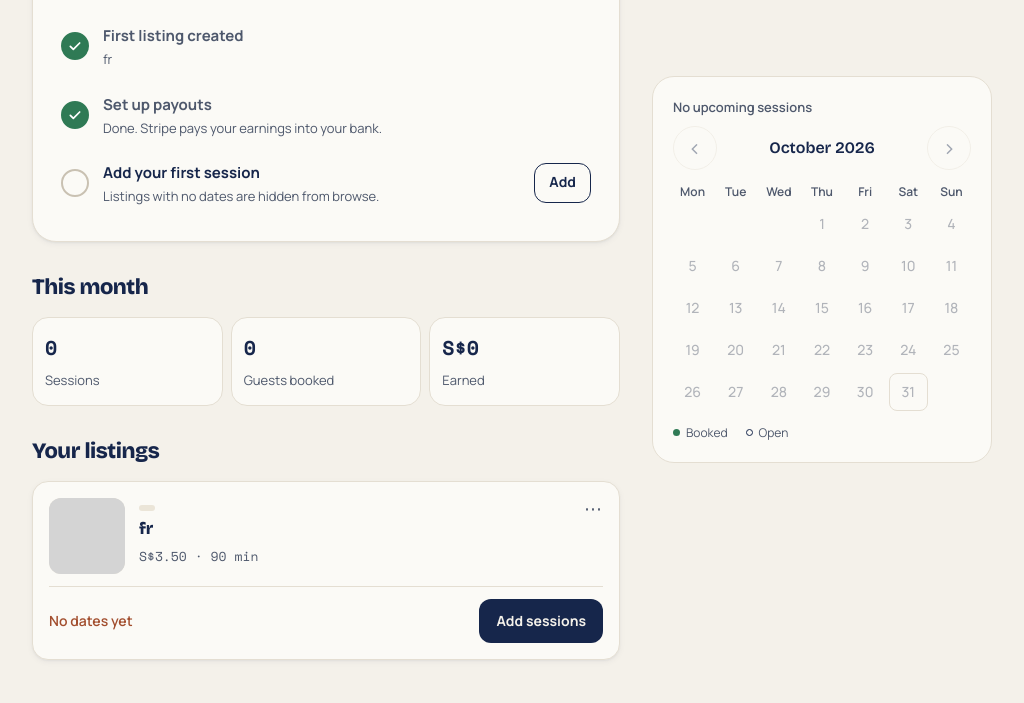
Test: Profile own tabs › drops a deleted listing from the public preview
(page scrolled)
Click the button named "More actions".
click(593, 508)  # box [575,490,611,526]
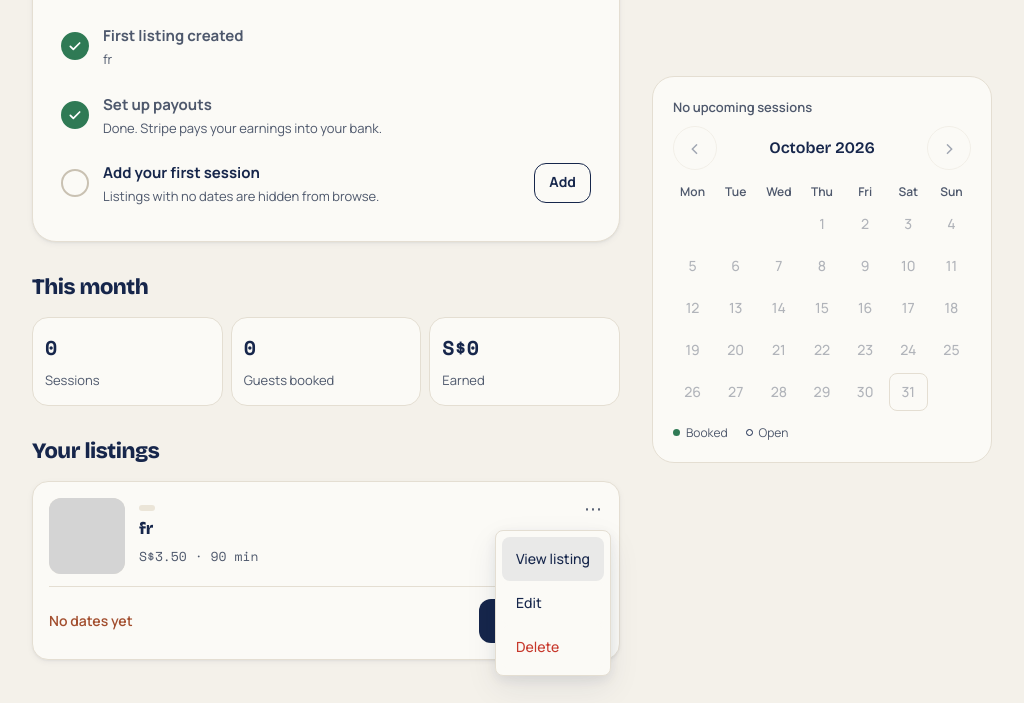
Click the menu item "Delete".
click(553, 647)  # box [502,625,604,669]
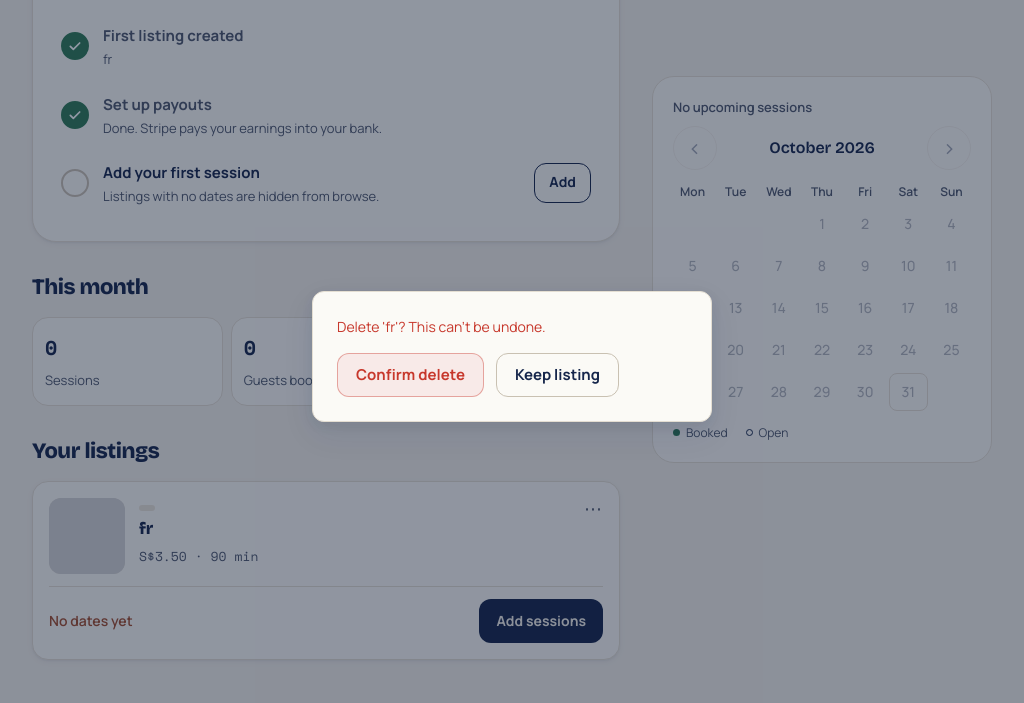
Click the button "Confirm delete".
click(410, 374)  # box [337,352,484,396]
(page scrolled)
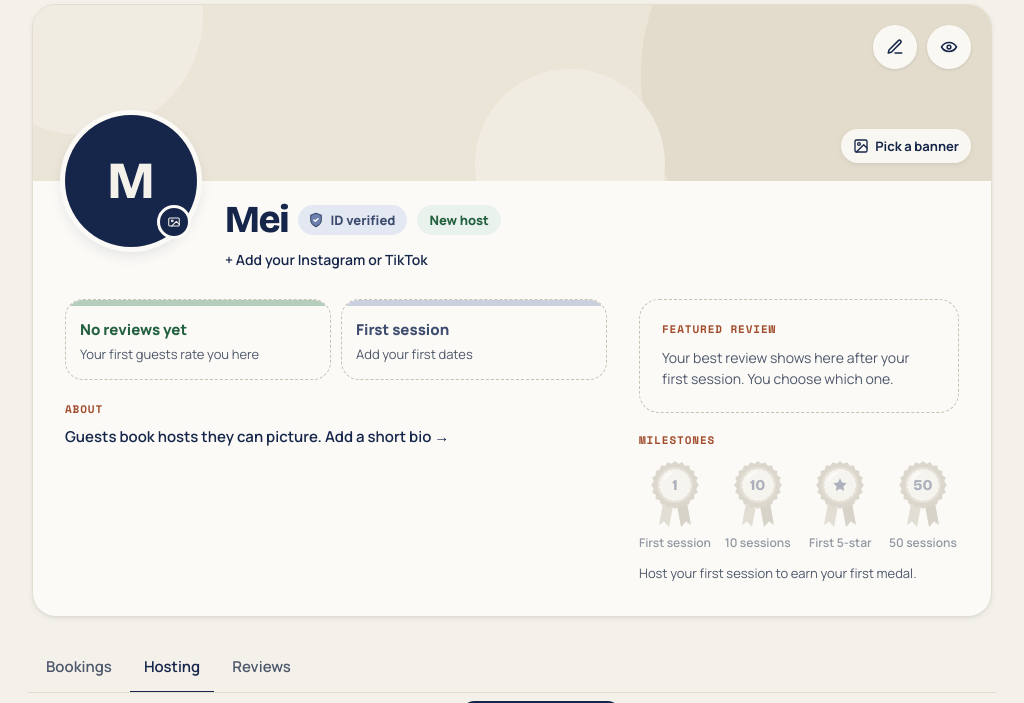
Check: the text "fr" is not shown
Click the link named "See how guests see you".
click(949, 47)  # box [927,25,971,69]
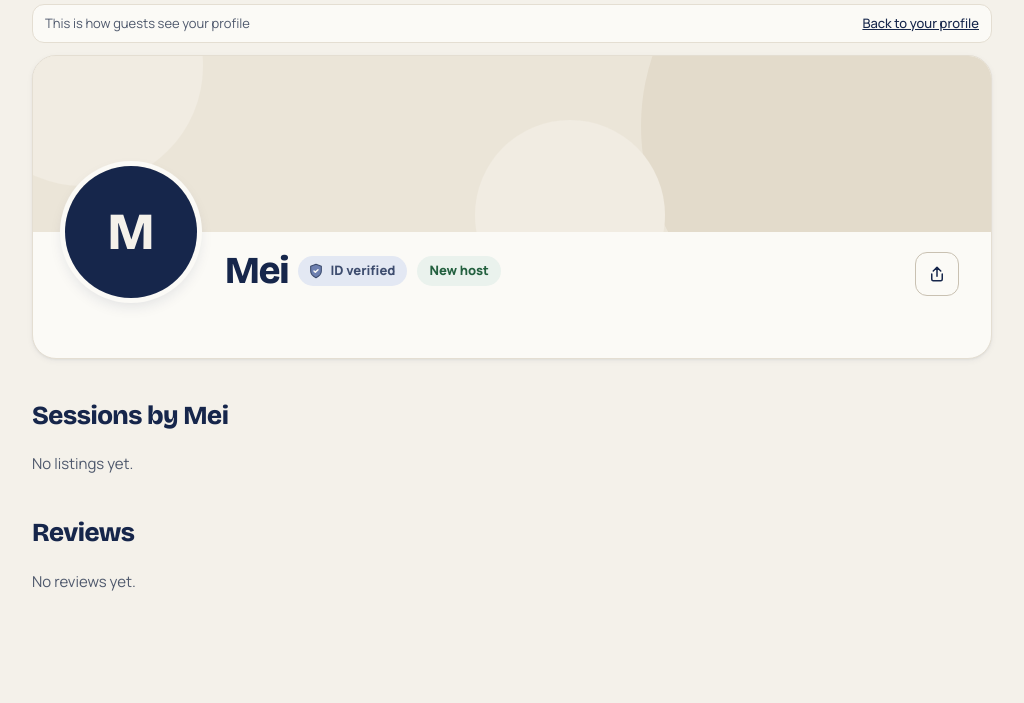
Check: the heading "Fr" is not shown
Check: the text "No listings yet." is shown, box [32,453,133,474]
Check: the text "This is how guests see your profile" is shown, box [45,13,250,34]
